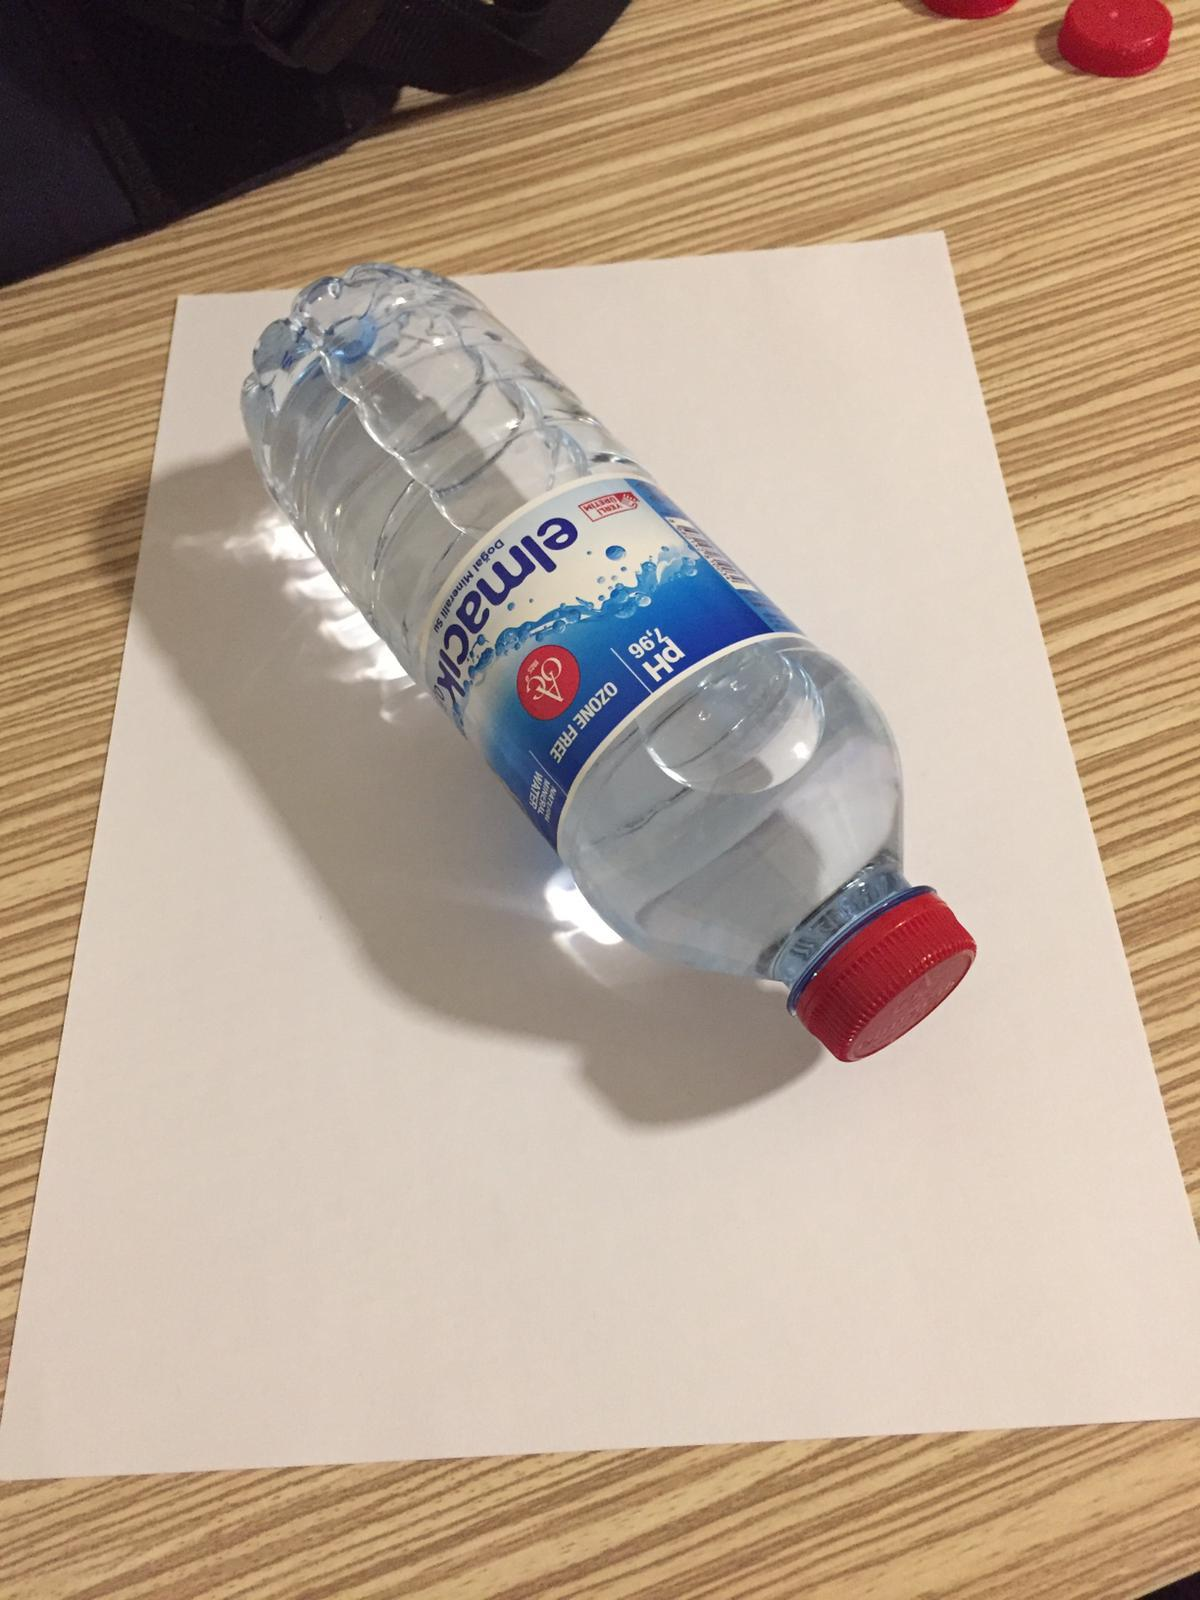bottle: (231, 265, 983, 1070)
